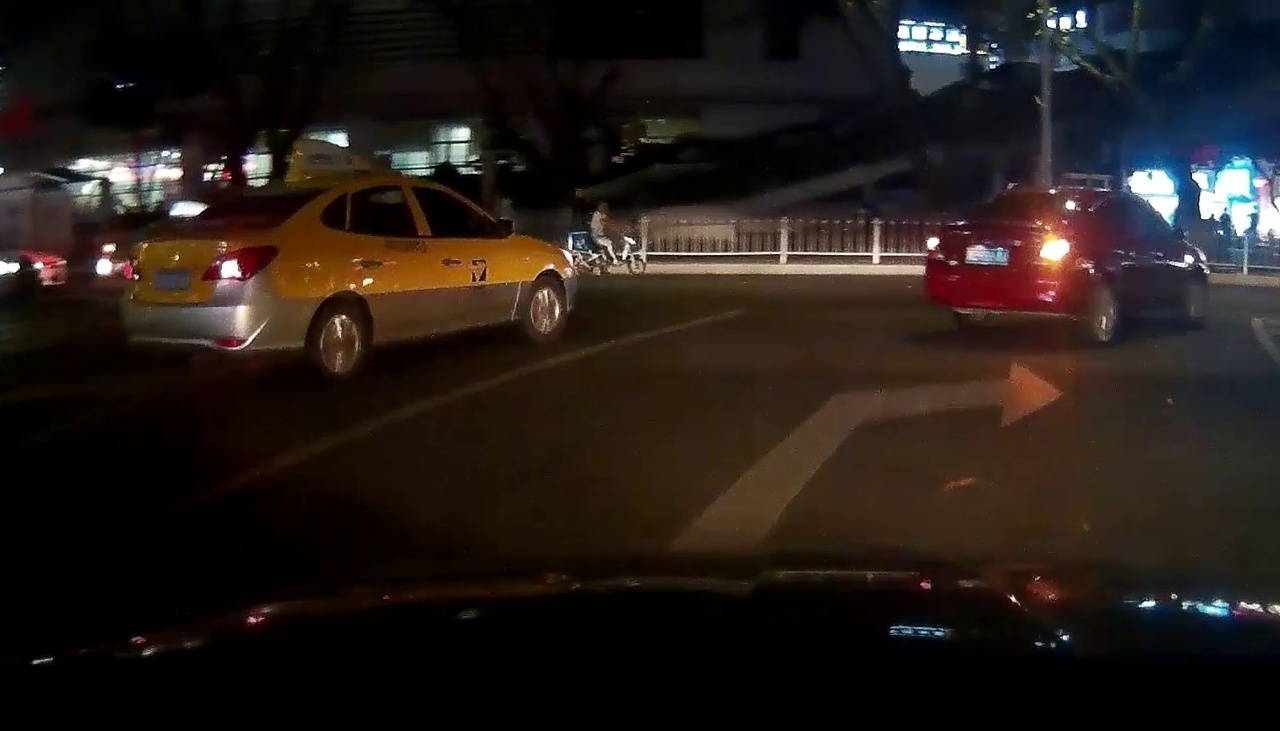L_light: (926, 233, 948, 260), (129, 255, 144, 281)
R_light: (200, 243, 281, 283), (1040, 235, 1072, 261)
T_light: (251, 186, 287, 194), (1033, 192, 1059, 199)
night-right: (123, 180, 336, 383), (923, 183, 1104, 343)
